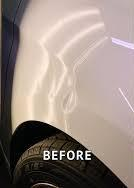dent: (43, 72, 84, 126)
